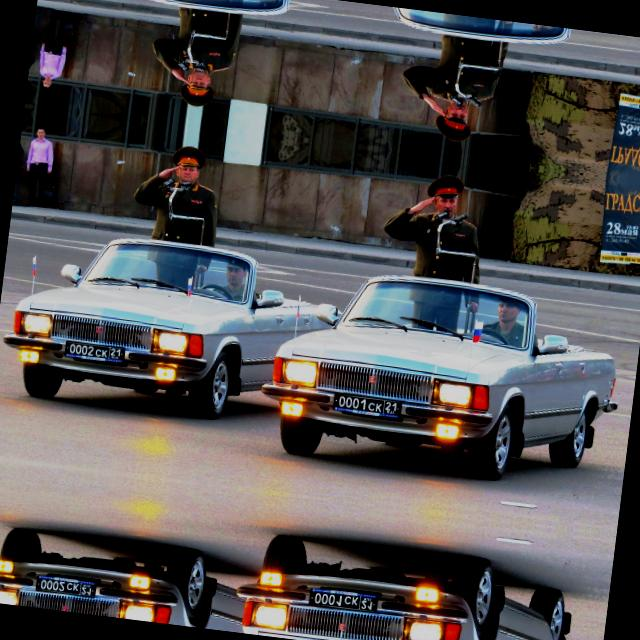military: (307, 584, 379, 616), (331, 388, 403, 419), (62, 335, 130, 367), (33, 569, 101, 601)
